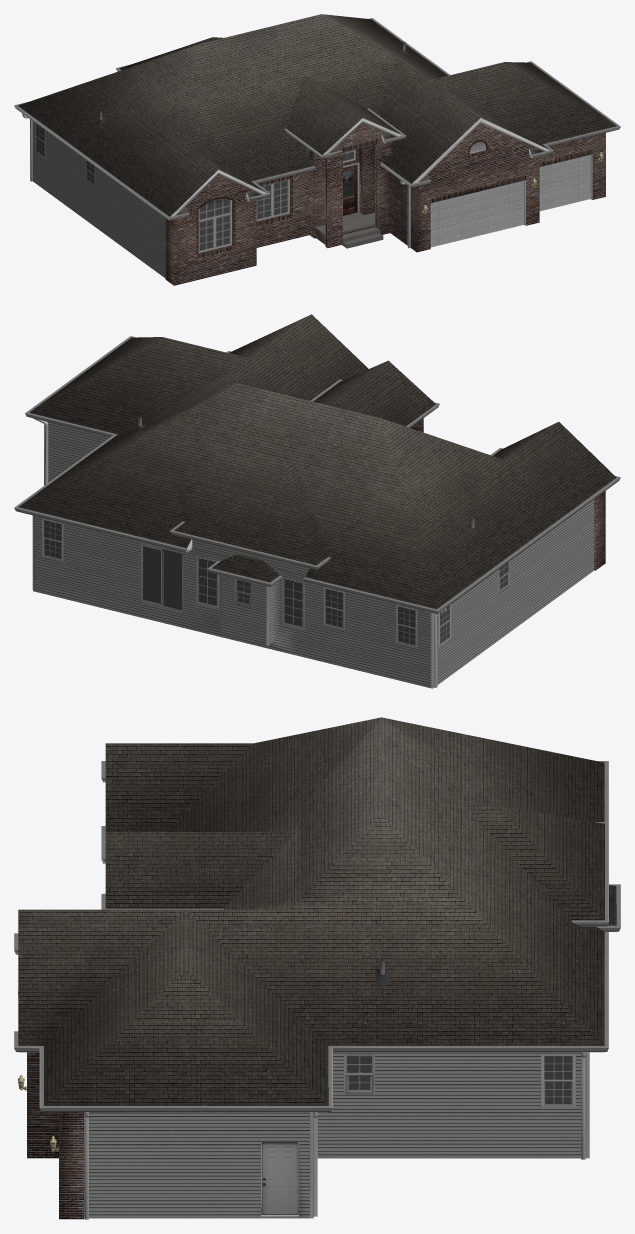
The picture shows the model from 3 angles, top to bottom: view 1: azimuth 30°, elevation 25°; view 2: azimuth 150°, elevation 25°; view 3: azimuth 270°, elevation 25°; orthographic projection. The views are drawn at different scales.
Visible parts, largest first — view 1: polySurface493_phong4_0; view 2: polySurface493_phong4_0; view 3: polySurface493_phong4_0.
Part boxes in pixels (x1=…): polySurface493_phong4_0: x1=14, y1=14, x2=620, y2=285; polySurface493_phong4_0: x1=14, y1=314, x2=620, y2=688; polySurface493_phong4_0: x1=14, y1=717, x2=620, y2=1219.
Size of the model in its own units: 1923 by 662 by 1422.
Materials: 1 (1 with a texture image).
